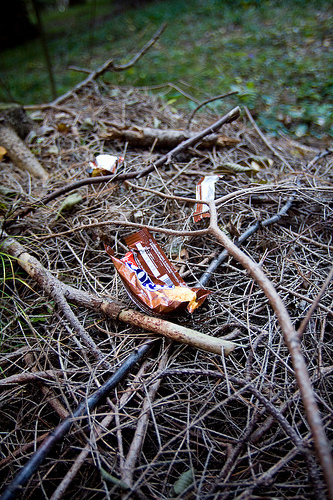litter: (107, 227, 211, 312), (85, 154, 125, 182)
